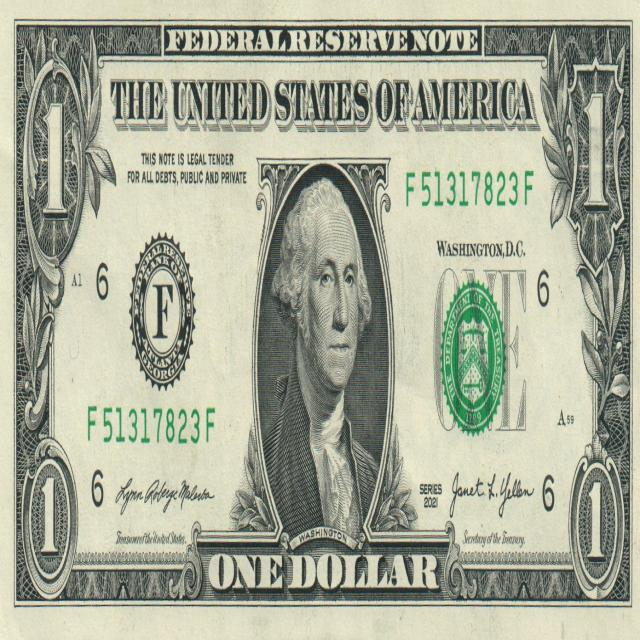SerialNumber: (88, 406, 214, 444), (406, 171, 533, 206)
